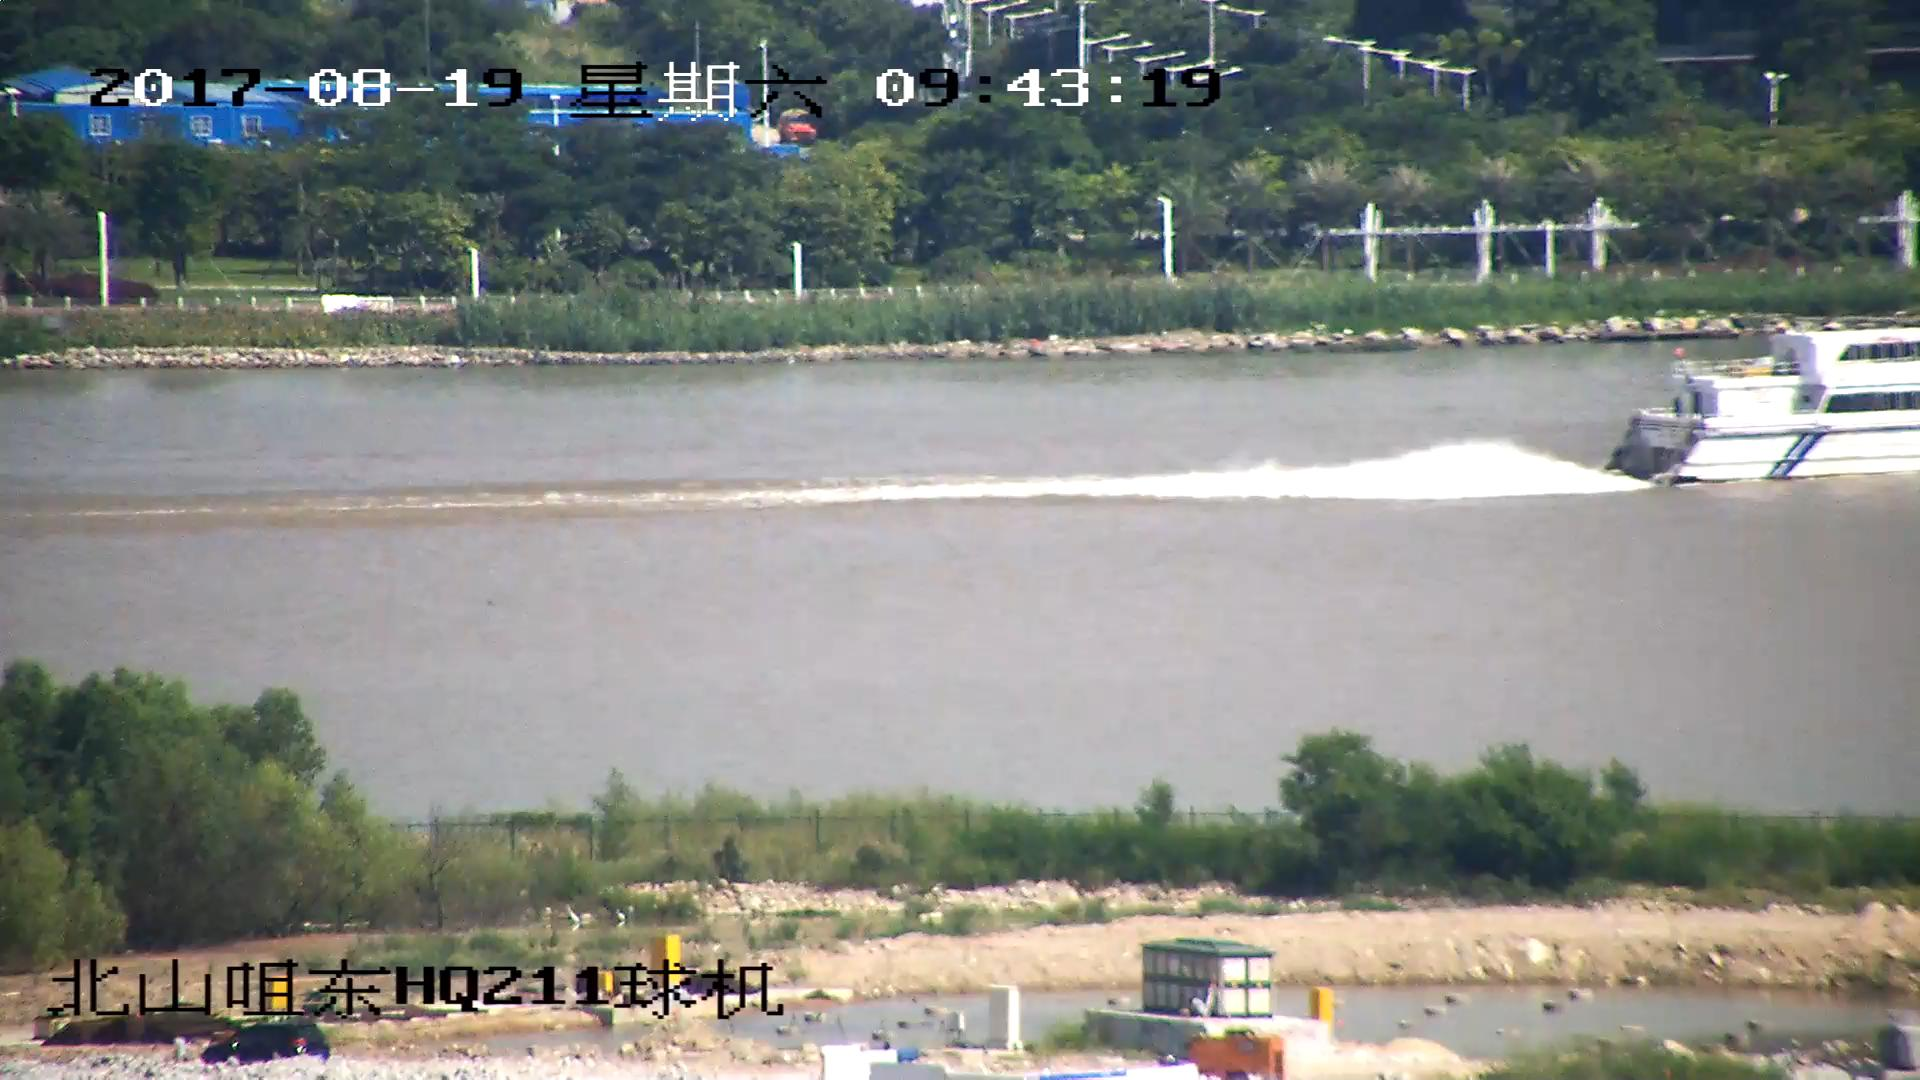passenger ship: (1608, 325, 1920, 481)
